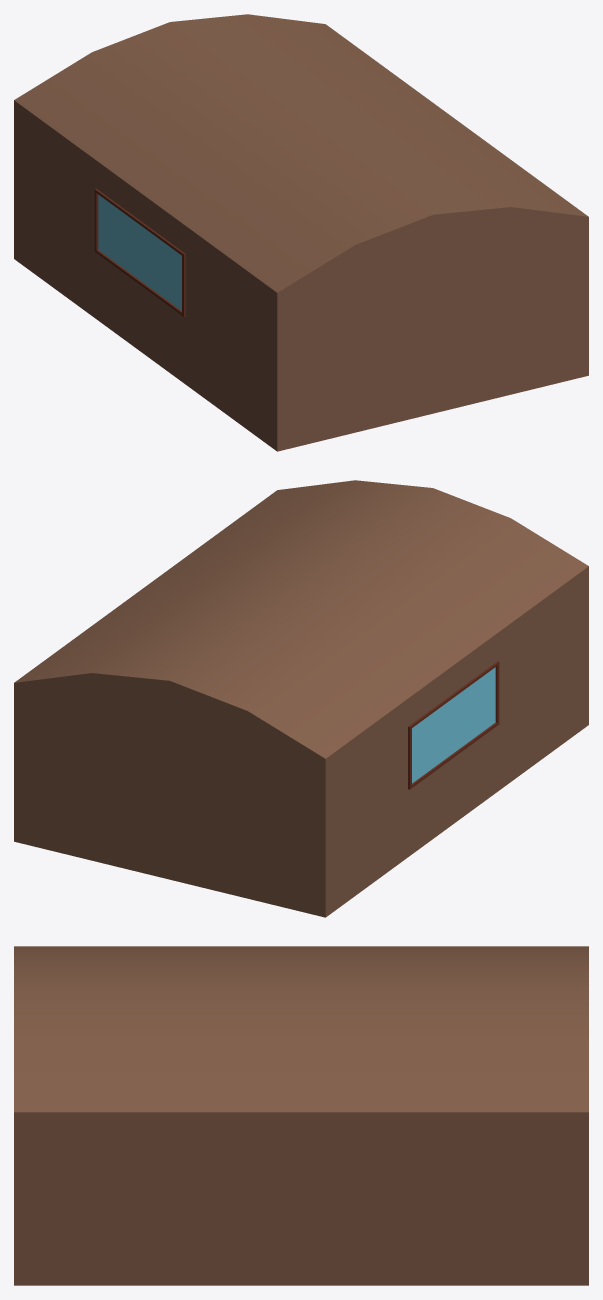
The model's file is Vagon(Shire).fbx.
3 renders of one model, top to bottom at view 1: azimuth 30°, elevation 25°; view 2: azimuth 150°, elevation 25°; view 3: azimuth 270°, elevation 25°, orthographic. The views are drawn at different scales.
Visible parts, largest first — view 1: Vagon; view 2: Vagon; view 3: Vagon.
Part boxes in pixels (left/top/right/bottom): Vagon: left=14, top=14, right=588, bottom=451; Vagon: left=14, top=480, right=588, bottom=917; Vagon: left=14, top=946, right=588, bottom=1285.
Bounding box in the file's own units: 412 × 250 × 600.
